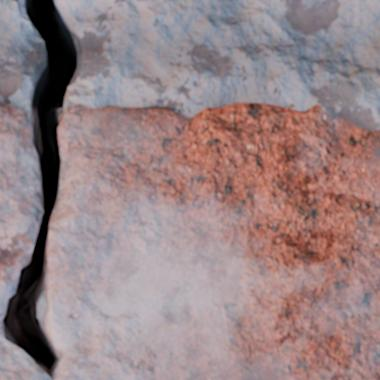broken_brick: (0, 102, 379, 379), (0, 101, 41, 320)
crack: (0, 0, 81, 377)
